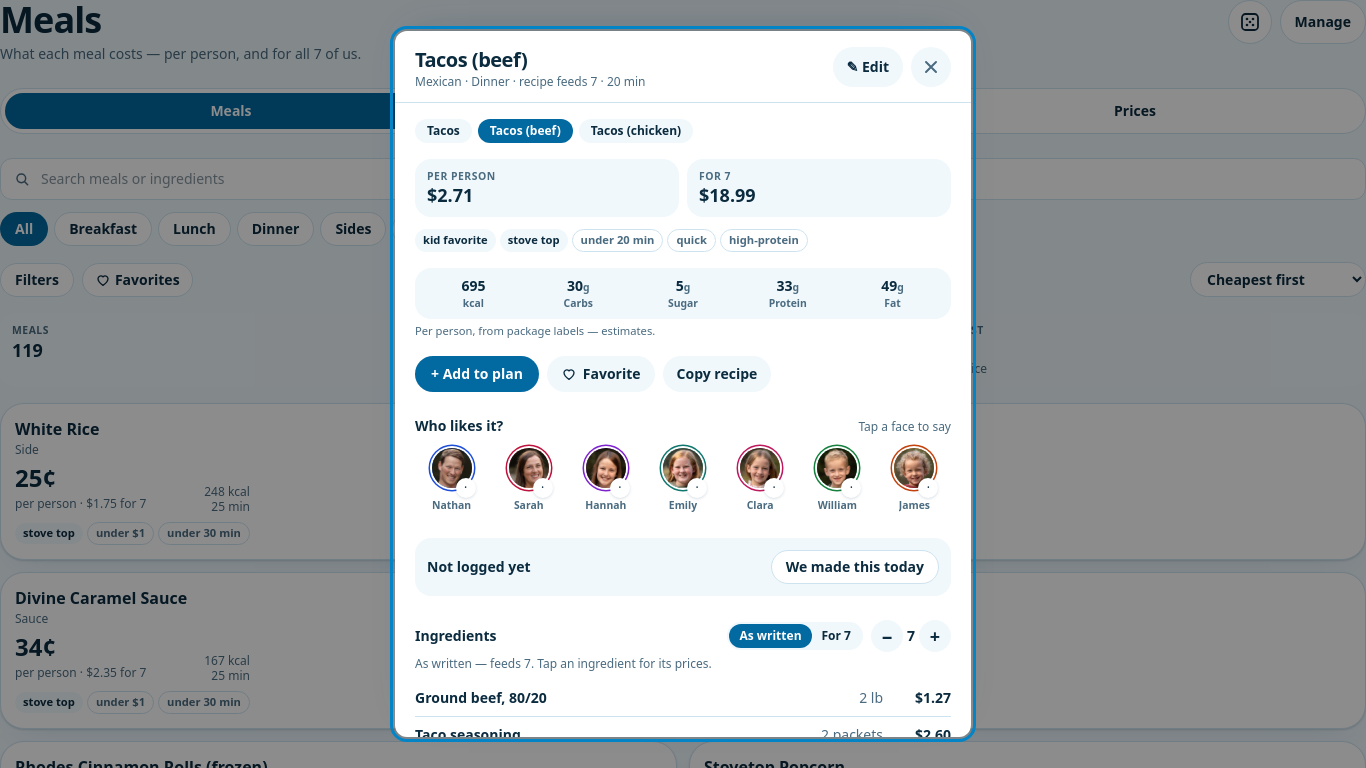
Test: a meal's sheet › puts a failed save back, and says why
This screenshot has width=1366, height=768.
Click the button "Favorite" at (601, 374), box left=547, top=356, right=655, bottom=392
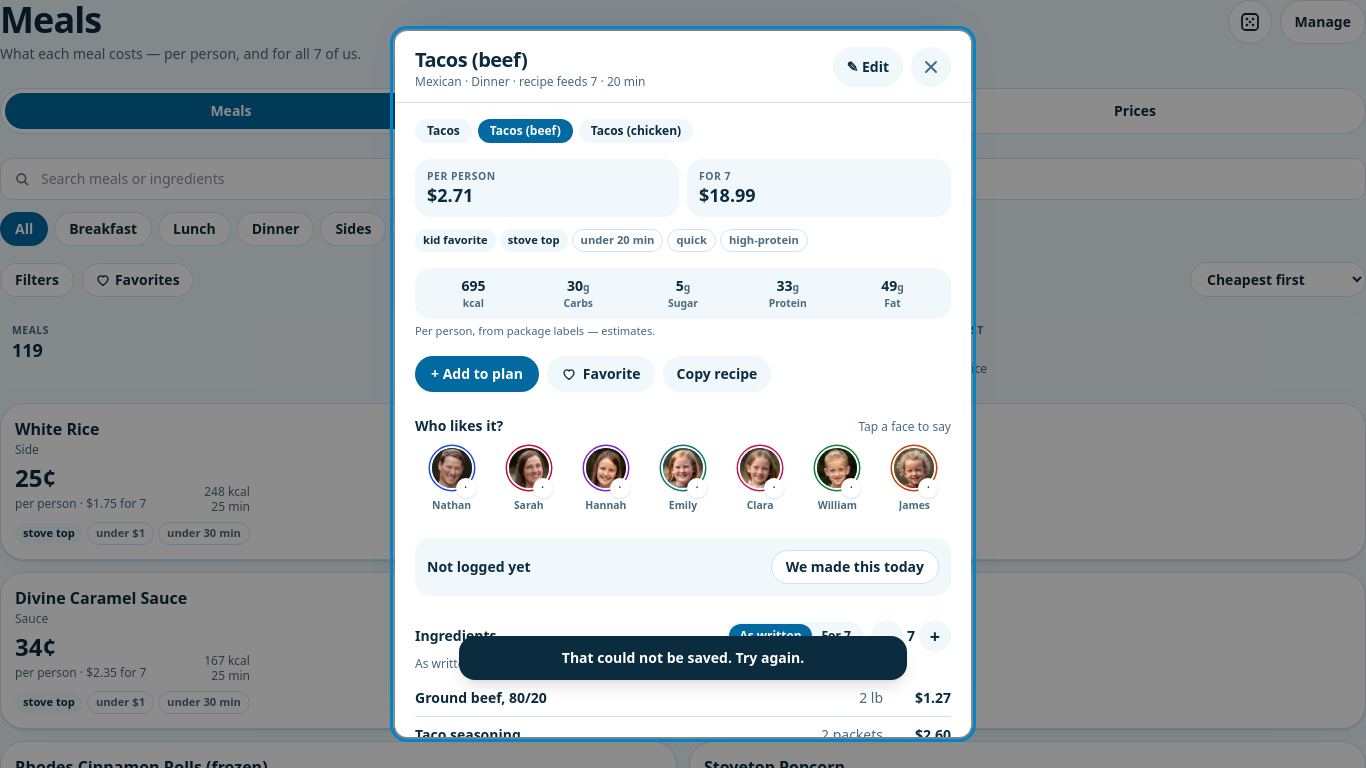
Check: the text "That could not be saved. Try again." is shown, box left=459, top=636, right=907, bottom=680
